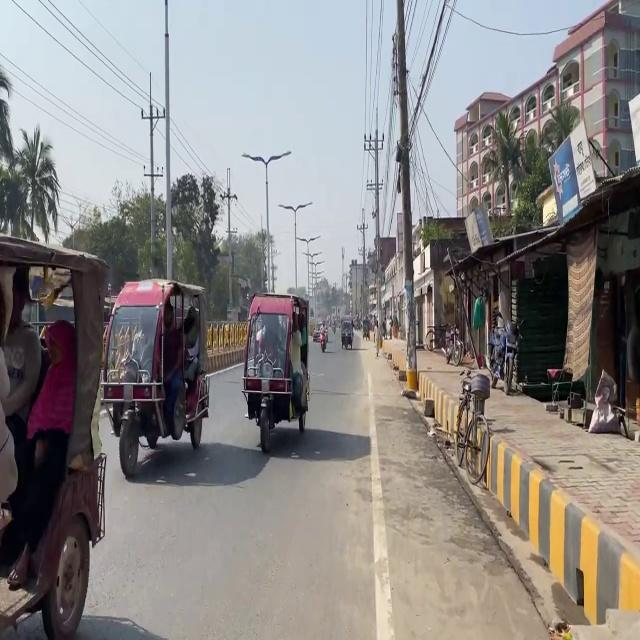Construction-barrier: (400, 389, 554, 634)
Fallen-tree: (315, 326, 328, 352), (340, 325, 353, 349)
Light-pole: (393, 0, 418, 389), (162, 0, 172, 280)
Pothole: (380, 337, 640, 630)
Traffic-cone: (0, 233, 110, 639), (100, 277, 210, 477), (240, 292, 310, 452)
